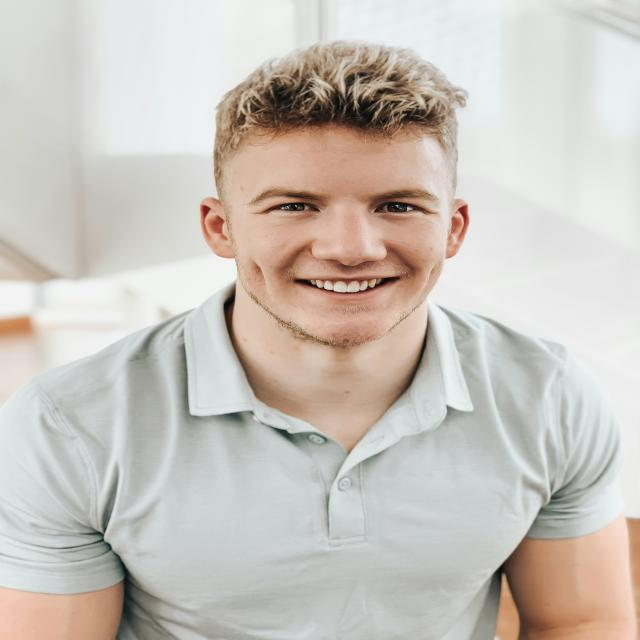human: (7, 43, 640, 640)
